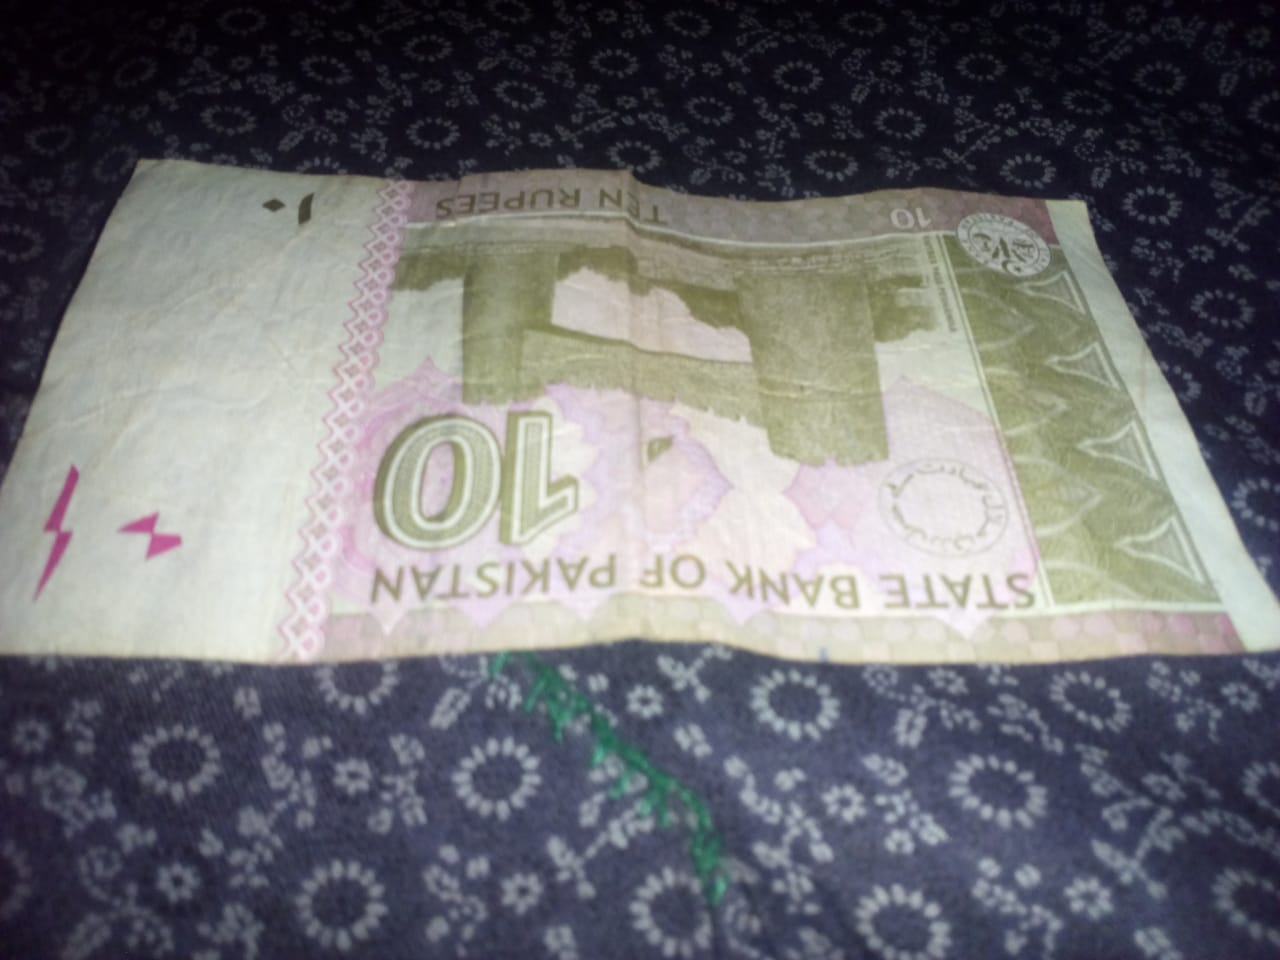10 rupee: (48, 145, 1253, 733)
